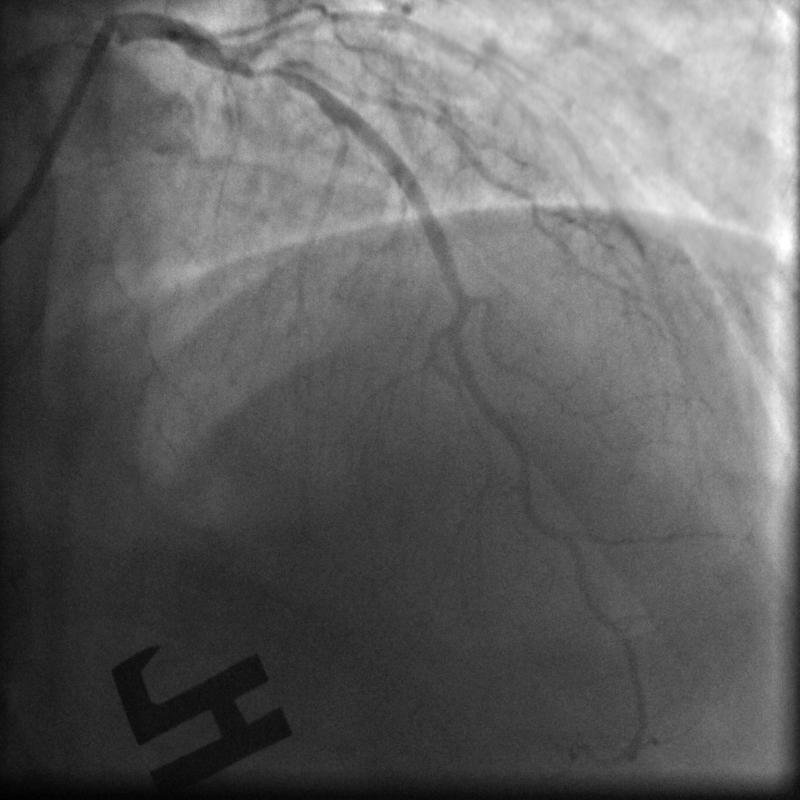Stenosis: (229, 50, 289, 89)
